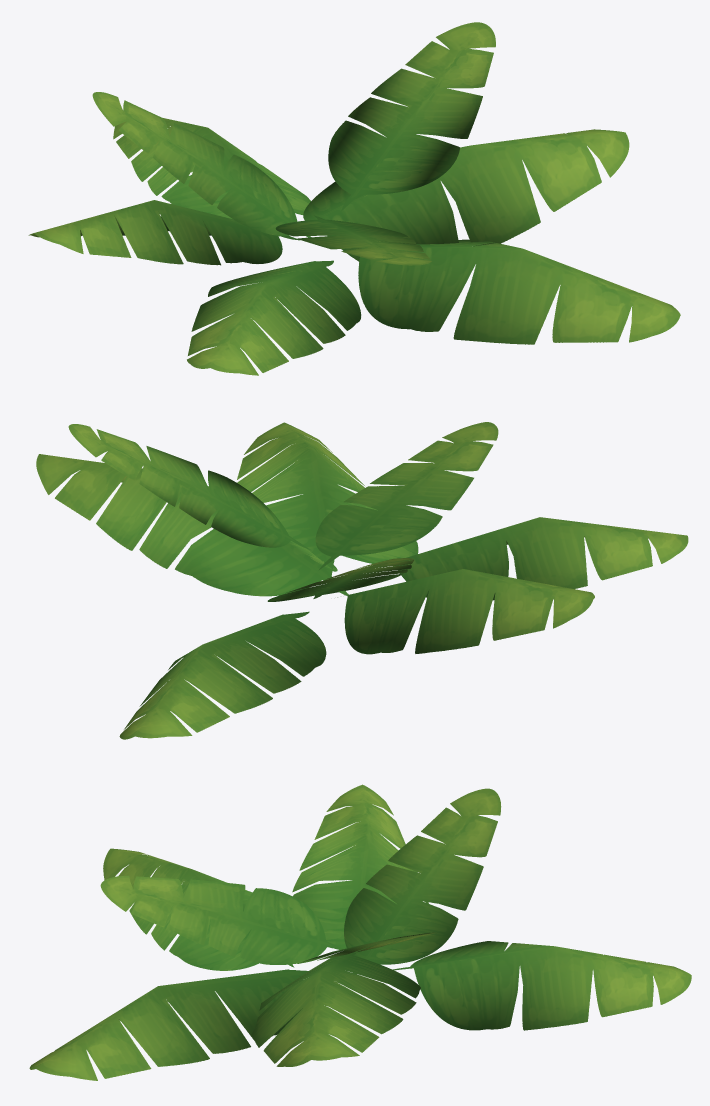
Rendered from Plant_05a.fbx.
3 views of the same model, one above another, from view 1: azimuth 30°, elevation 25°; view 2: azimuth 150°, elevation 25°; view 3: azimuth 270°, elevation 25° (orthographic). The views are drawn at different scales.
Parts seen in each view (by area): view 1: Plant_05a; view 2: Plant_05a; view 3: Plant_05a.
Part boxes in pixels (bbox=[...]): Plant_05a: bbox=[28, 22, 680, 375]; Plant_05a: bbox=[36, 422, 688, 739]; Plant_05a: bbox=[29, 784, 691, 1080].
Bounding box in the file's own units: 132 × 41.39 × 144.
